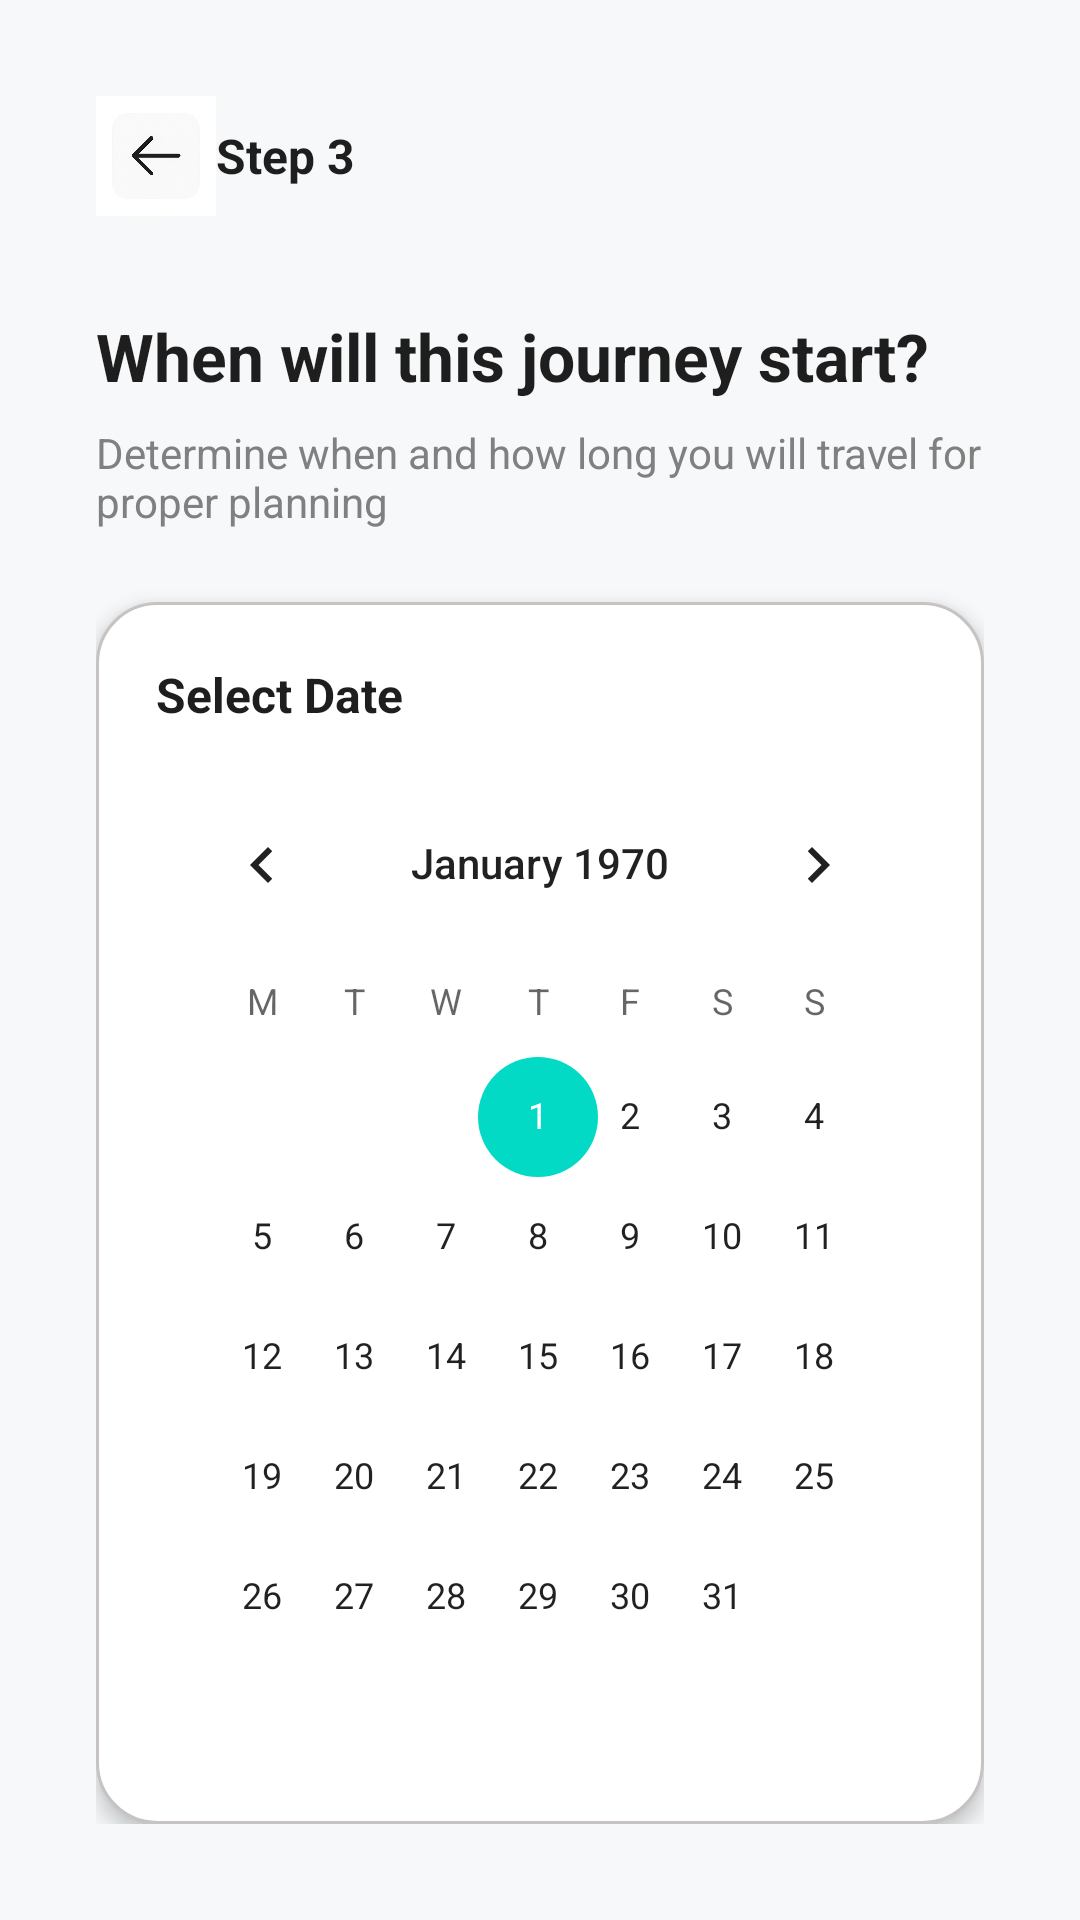

Named icons in this screenshot (1080 x 1920) and their bounding boxes, (x1, y1, x2, y2):
Back: (132, 136, 181, 175)
